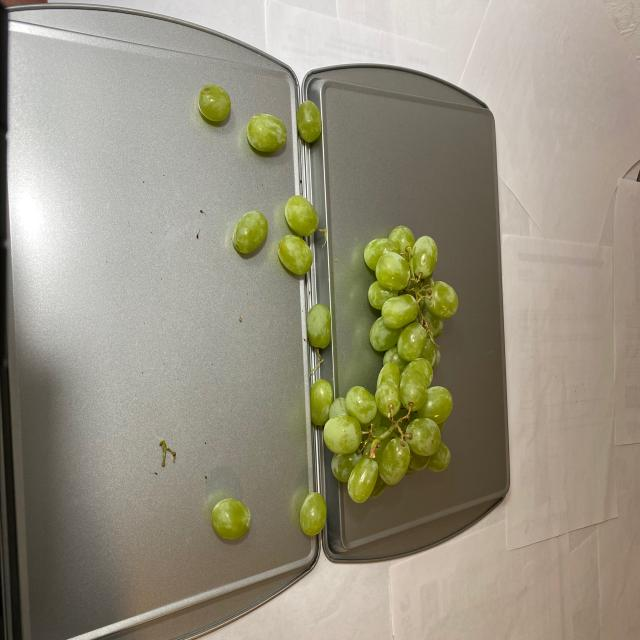grapes: (197, 85, 454, 533)
